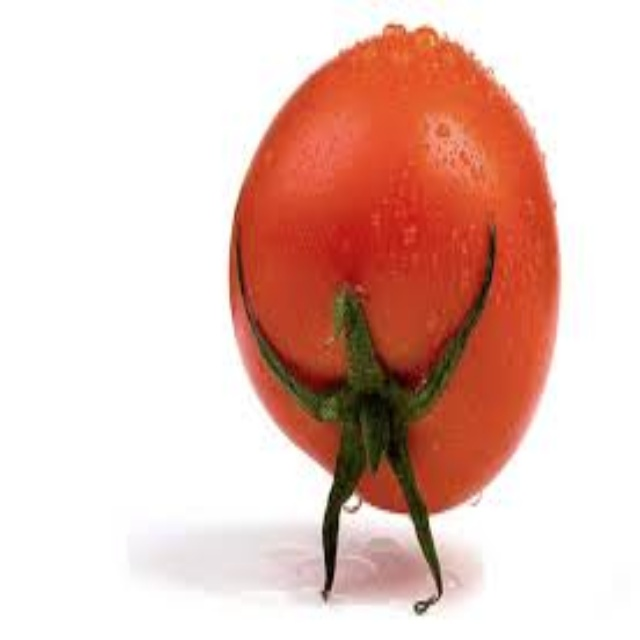tomato: (225, 22, 564, 612)
